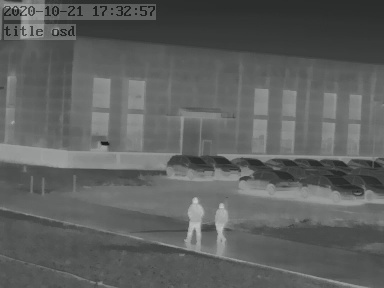person: (186, 197, 203, 245), (215, 202, 230, 246)
vehicle: (301, 171, 362, 198), (237, 172, 302, 196), (165, 153, 213, 179), (205, 153, 242, 178), (350, 173, 382, 200), (233, 154, 270, 171), (262, 155, 295, 169), (348, 156, 379, 170), (318, 156, 347, 169), (296, 156, 324, 169)
